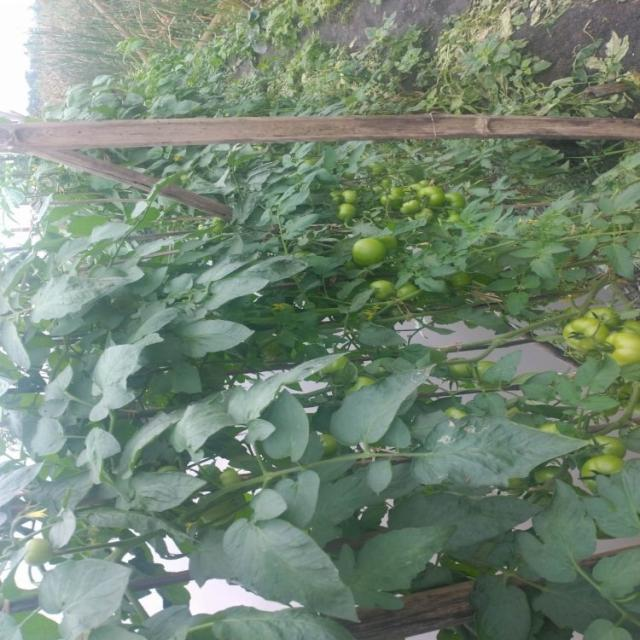tomato: (575, 435, 639, 491), (554, 307, 608, 362), (358, 266, 414, 314), (598, 326, 640, 381), (348, 234, 390, 273), (390, 186, 431, 222), (418, 174, 450, 214), (18, 531, 50, 561), (334, 198, 370, 223), (337, 179, 365, 210), (472, 362, 502, 389), (446, 353, 469, 381)
